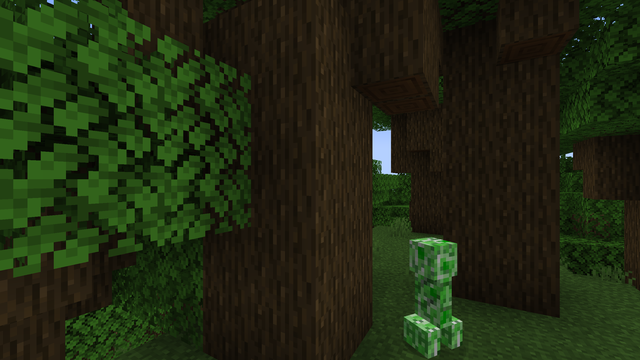creepers: (409, 231, 453, 355)
